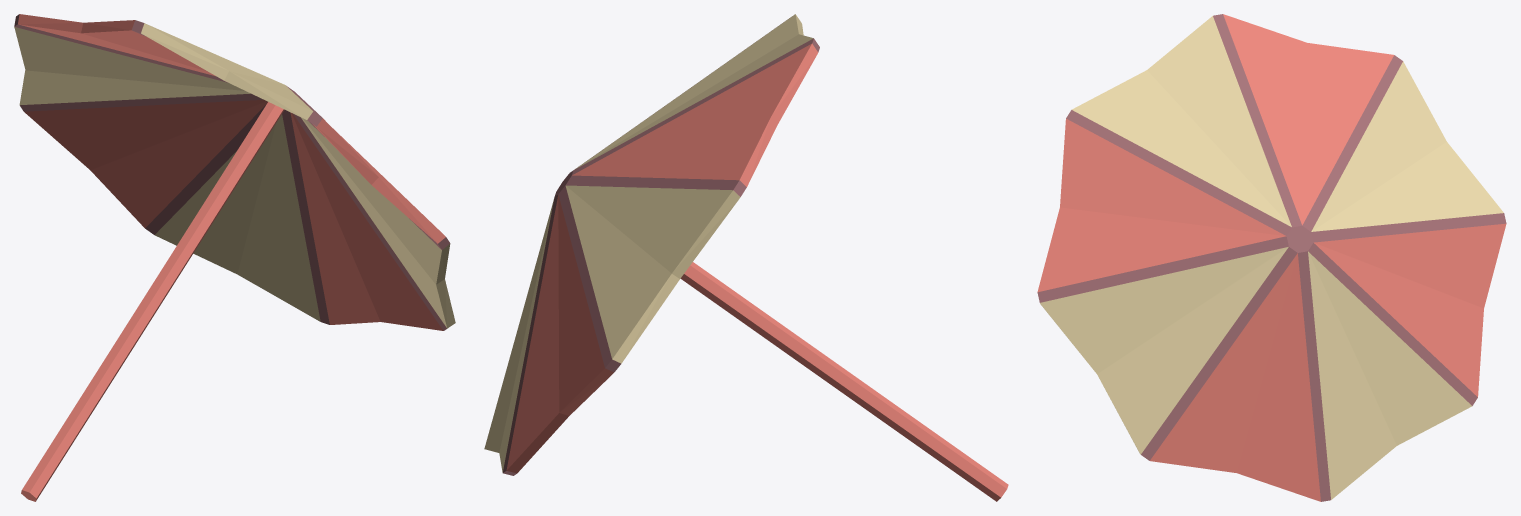
The model's file is Umbrella.fbx.
3 views of the same model, side by side, from view 1: azimuth 30°, elevation 25°; view 2: azimuth 150°, elevation 25°; view 3: azimuth 270°, elevation 25° (orthographic). The views are drawn at different scales.
Visible parts, largest first — view 1: Umbrella; view 2: Umbrella; view 3: Umbrella.
Boxes of the visible parts, x1,y1,x2,y2 form: Umbrella: [14, 14, 455, 501]; Umbrella: [484, 14, 1008, 501]; Umbrella: [1037, 14, 1506, 501].
Size of the model in its own units: 521 by 492 by 533.
